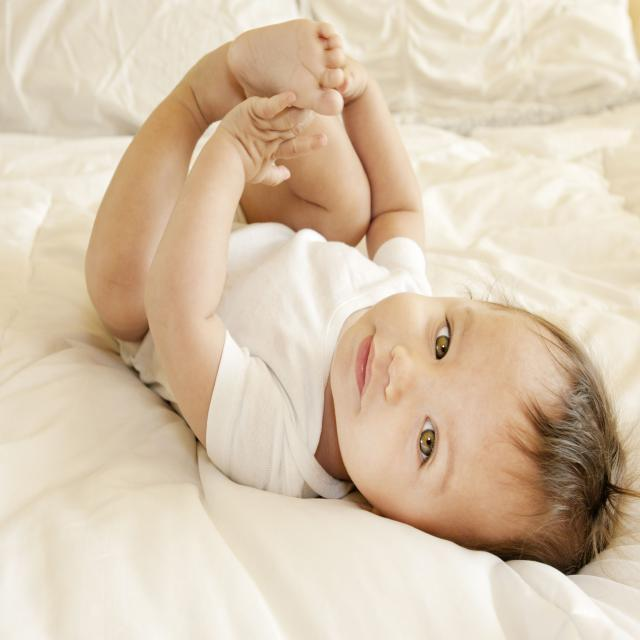non-dog: (85, 14, 630, 587)
